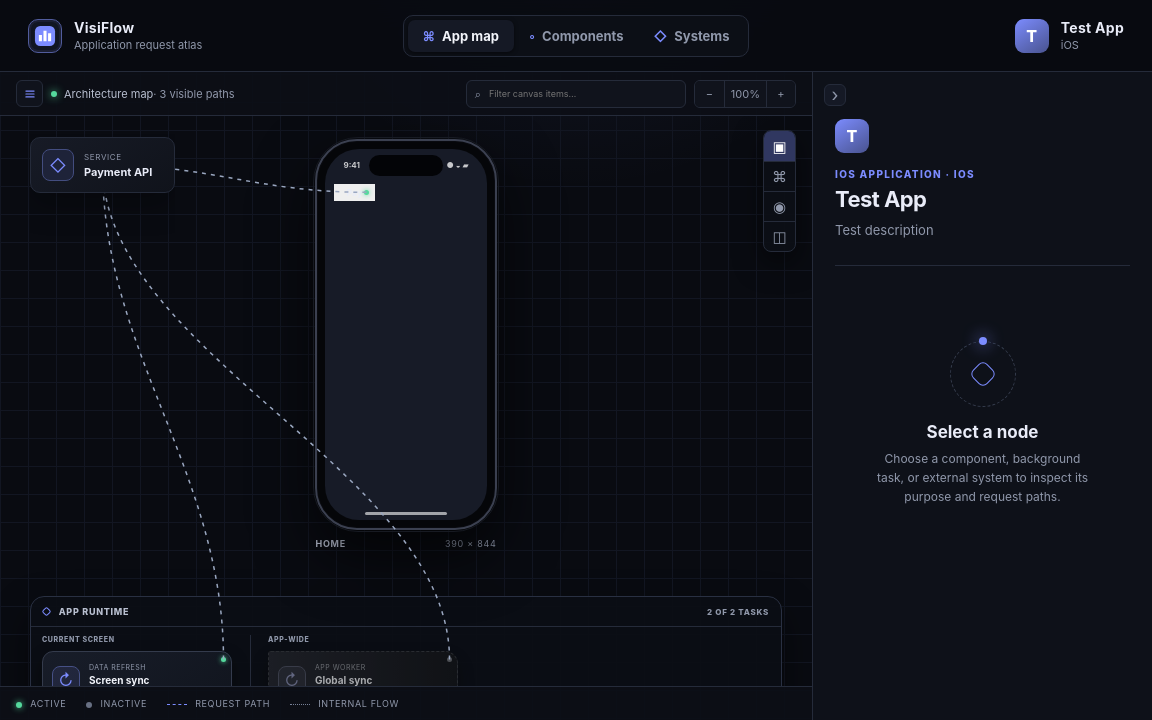
VisiFlow › renders screen and app-wide tasks below the phone and exposes task details
Expected: the element named "App runtime tasks" is shown, x1=30 y1=596 x2=782 y2=686
Expected: the button with aria-label "Screen sync, current screen, active" is shown, x1=42 y1=651 x2=232 y2=686
Step 1. Click the button with aria-label "Global sync, app-wide, inactive" → click(363, 680), box x1=268 y1=651 x2=458 y2=709
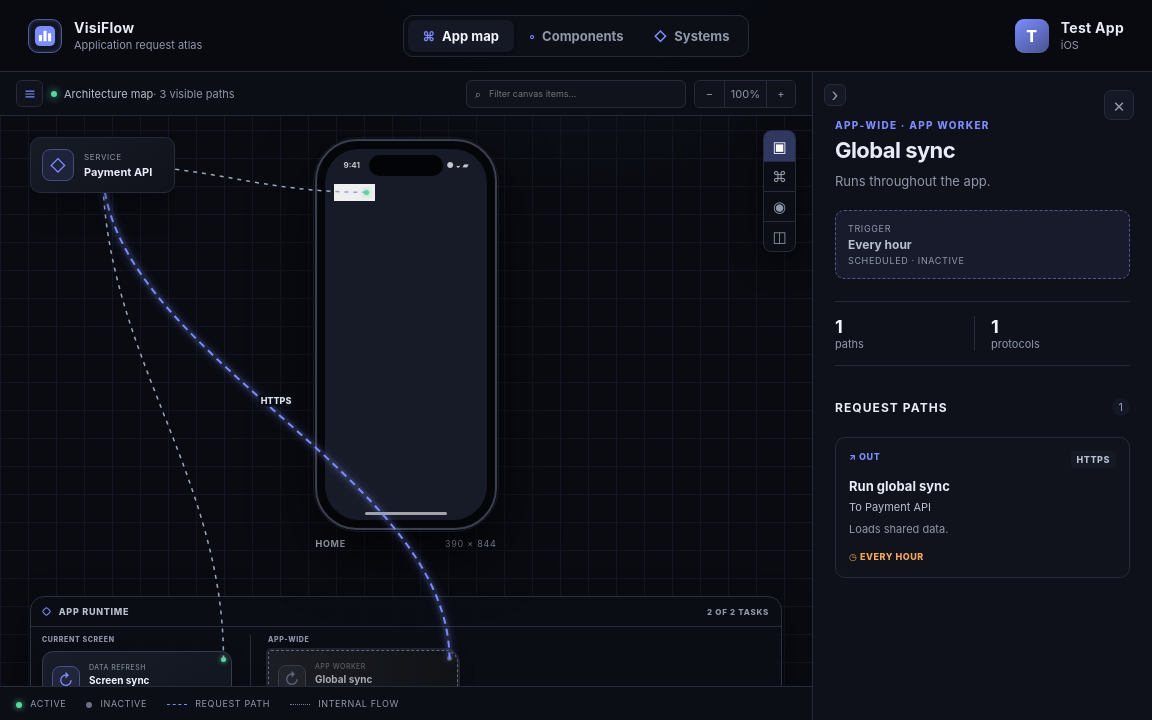
Expected: the element named "Global sync details" shows "Every hour", x1=848 y1=237 x2=912 y2=252
Expected: the element named "Global sync details" shows "App-wide", x1=835 y1=119 x2=990 y2=131
Step 2. Click the button named "Expand view filters" → click(30, 94), box x1=16 y1=80 x2=43 y2=107
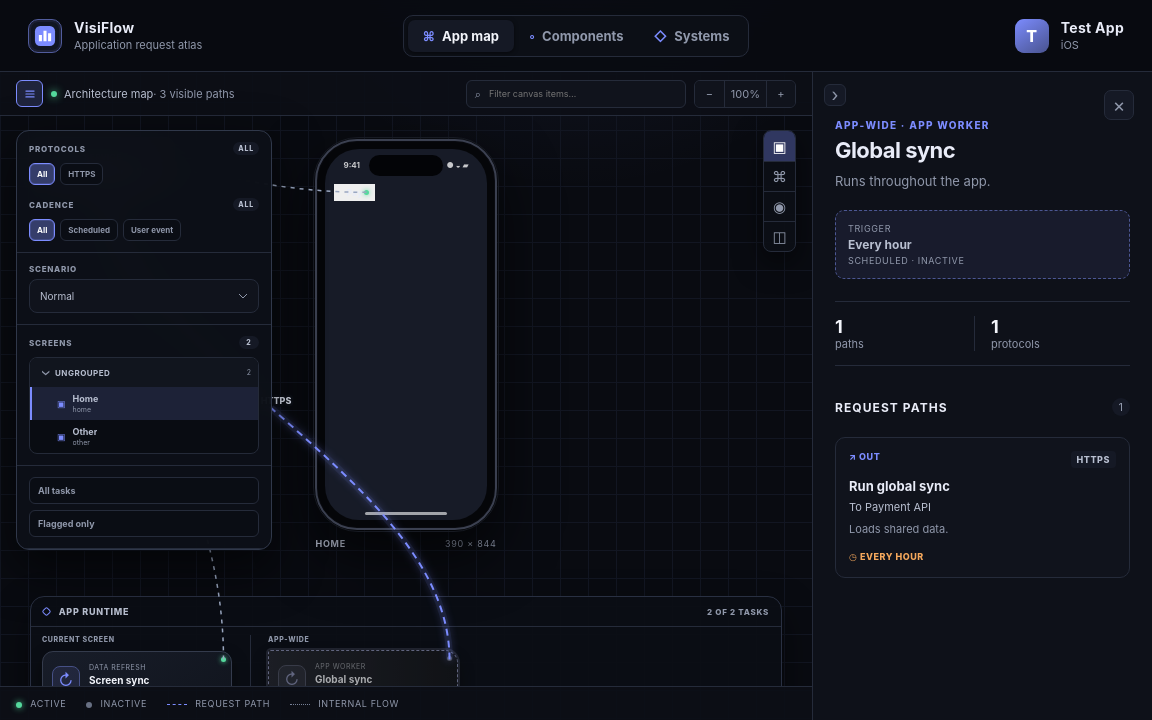
Step 3. Click the button "▣ Other other" → click(157, 436), box x1=56 y1=420 x2=258 y2=453
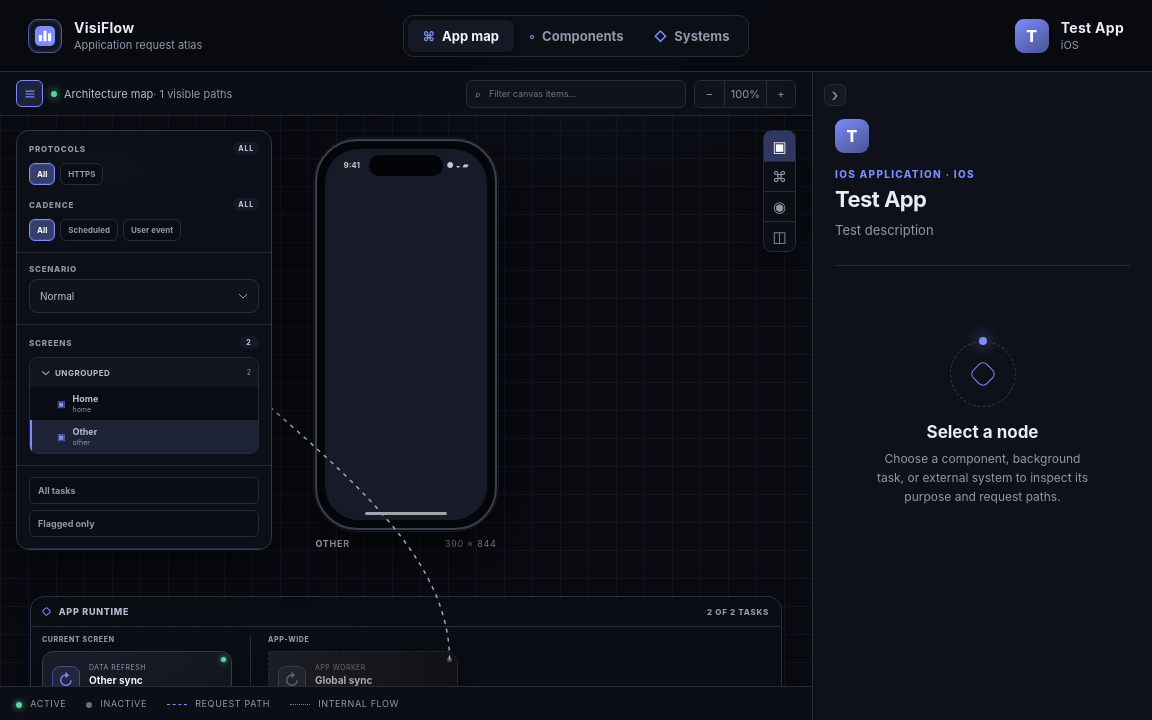
Expected: the button with aria-label "Global sync, app-wide, inactive" is shown, x1=268 y1=651 x2=458 y2=686
Expected: the button with aria-label "Other sync, current screen, active" is shown, x1=42 y1=651 x2=232 y2=686
Expected: the button "Screen sync" is gone
